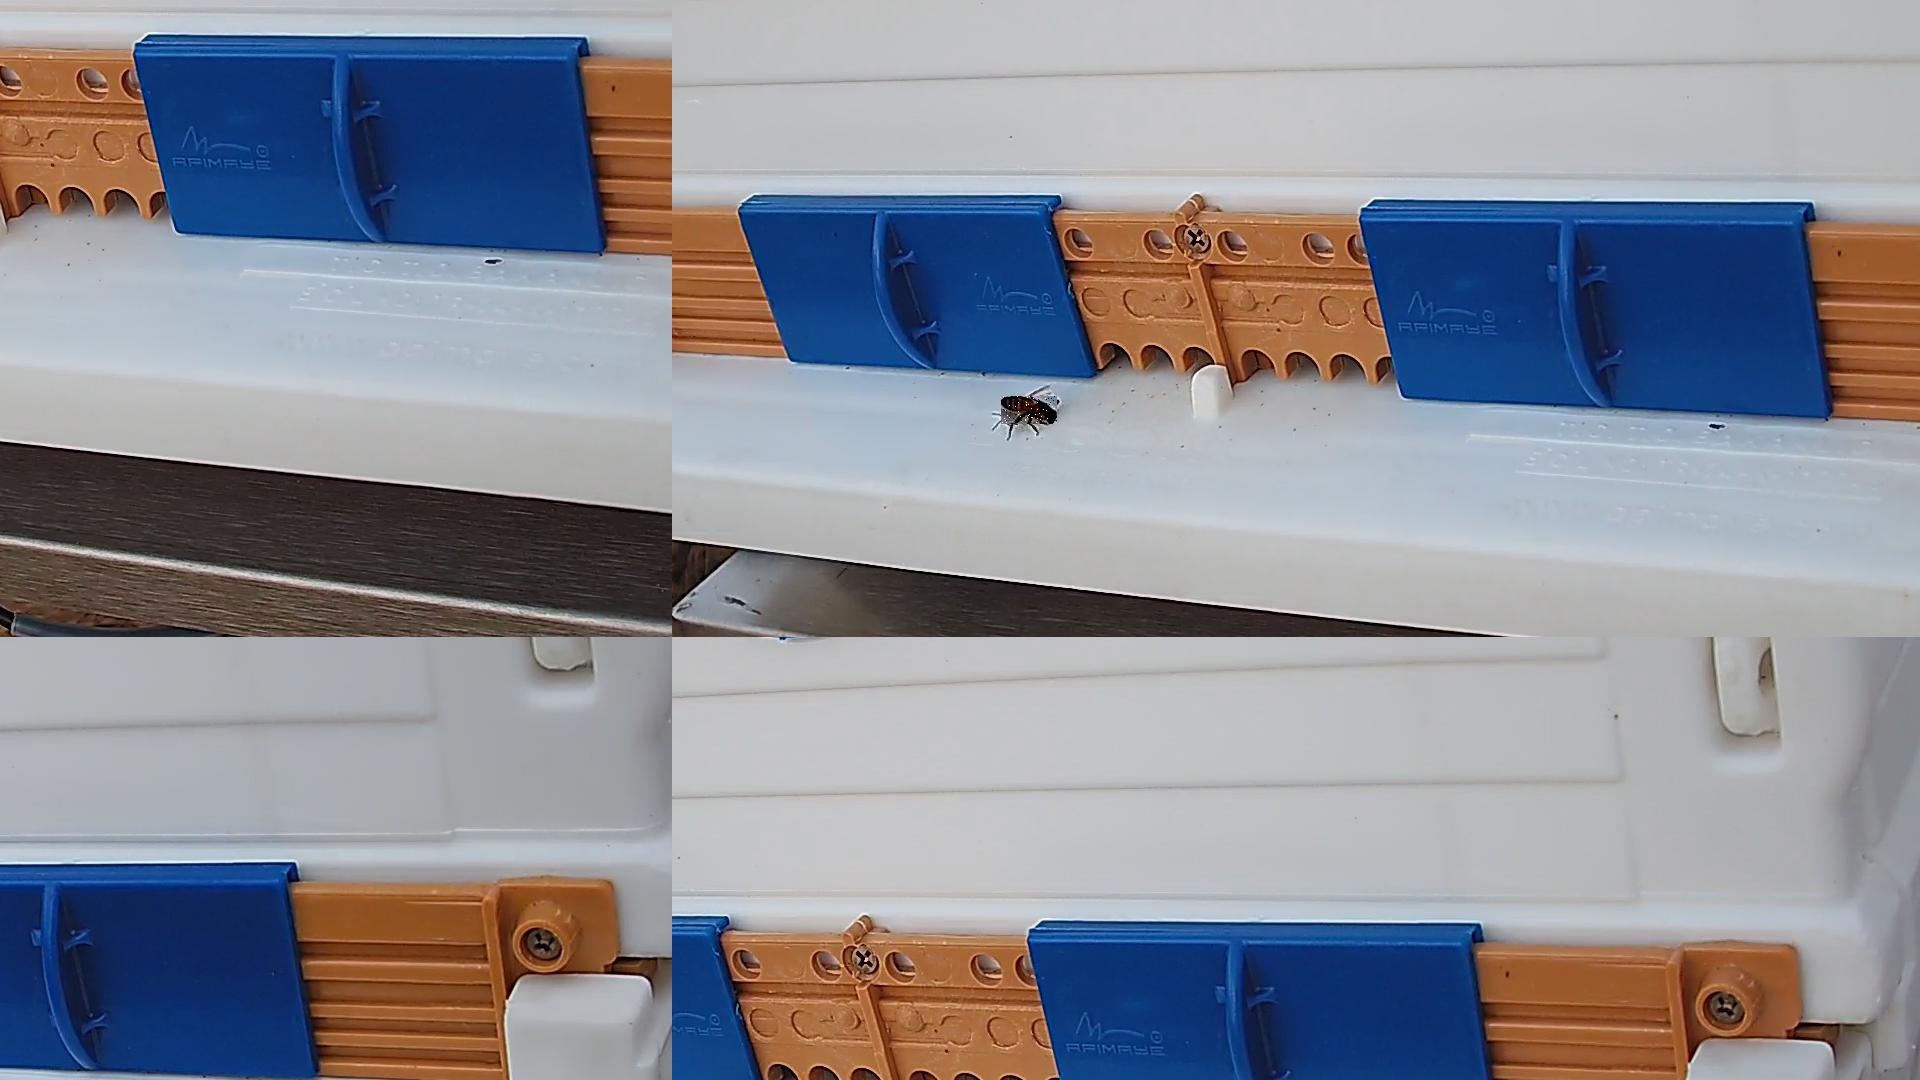bee: (1001, 396, 1059, 425)
